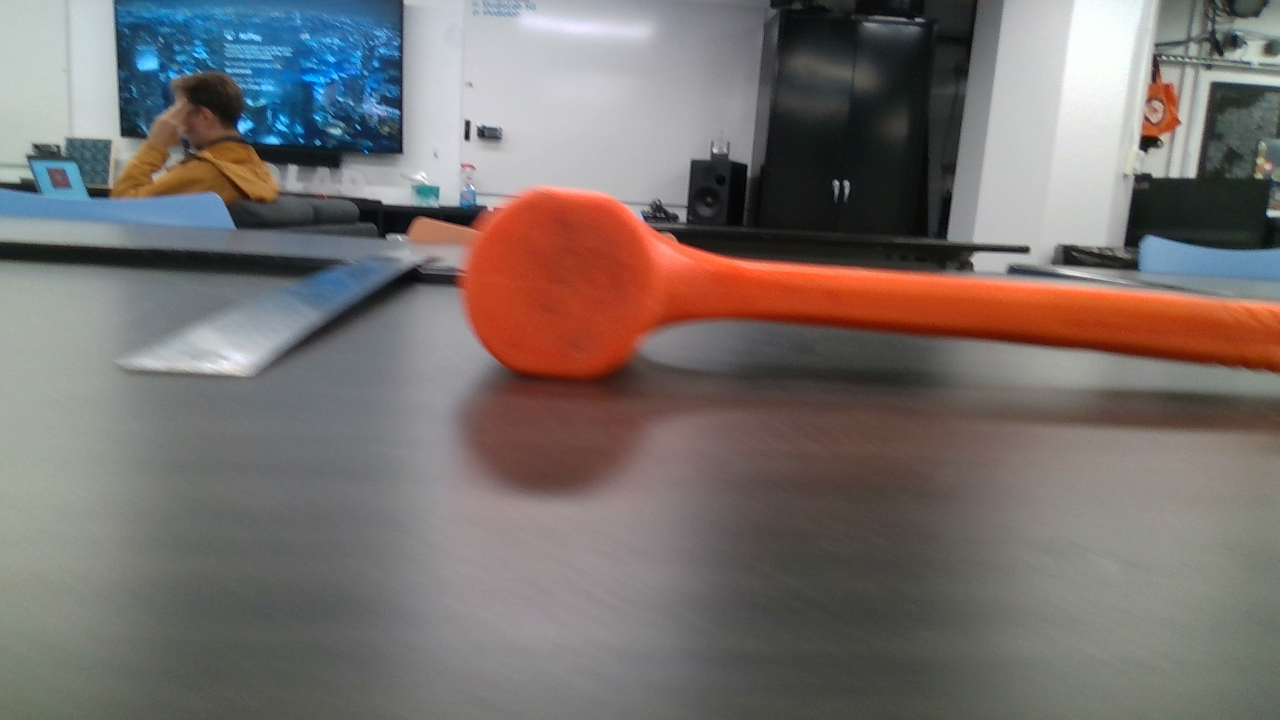Orange Hammer: (468, 186, 1274, 390)
